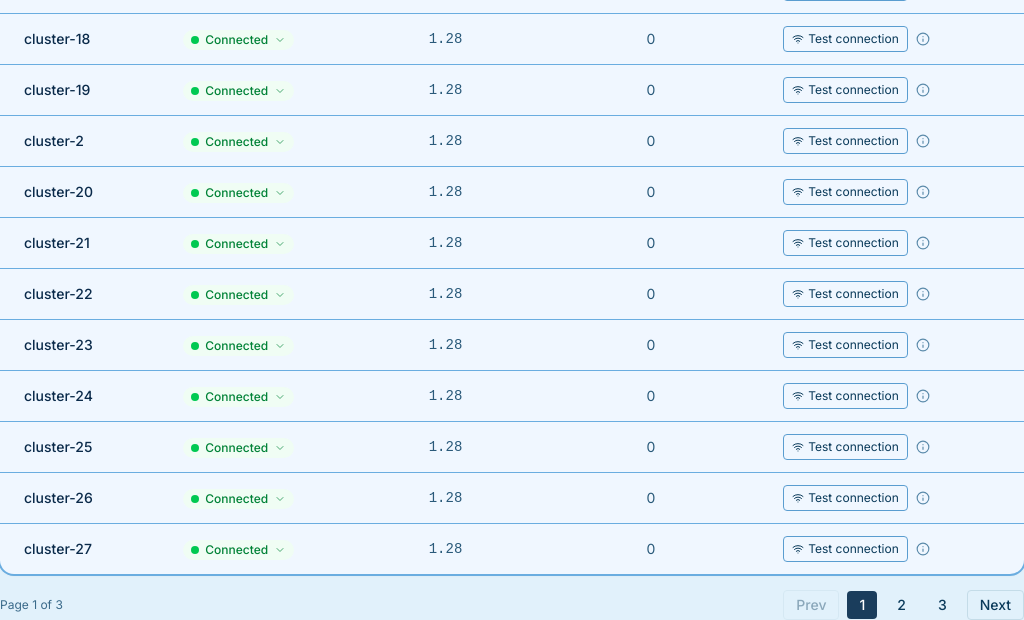
ClustersOverview client-side pagination + sort (S1) › switching page size recomputes total pages and resets to page 1
(page scrolled)
Expected: the text "Page 1 of 3" is shown, [0,597,63,613]
What coordinates should you click on to do the following:
click the button "Next"
I would click on:
 (995, 605)
Its box is [967,590,1023,619].
(page scrolled)
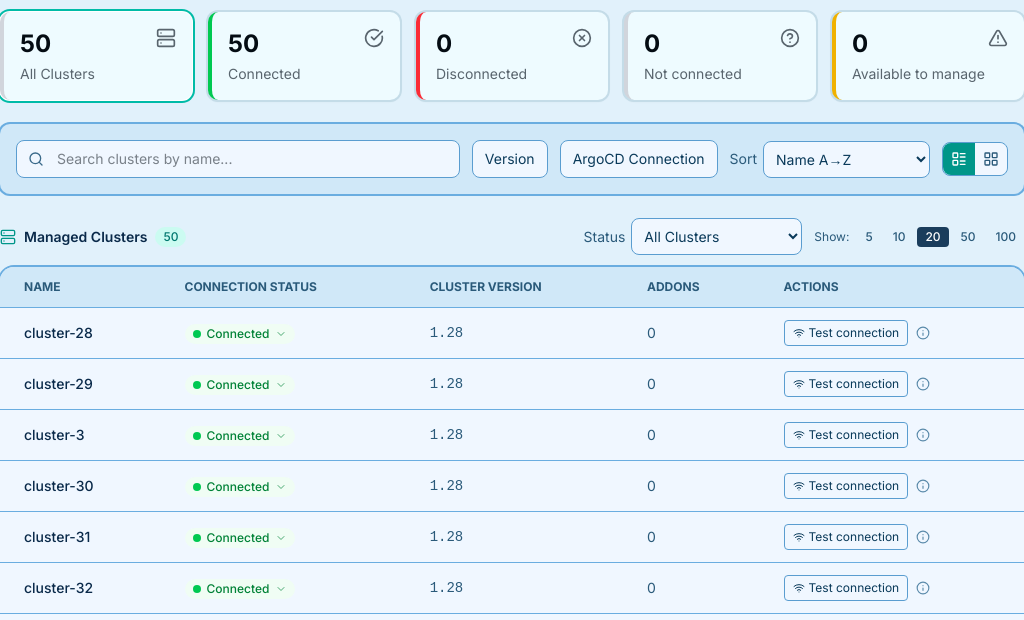
What coordinates should you click on to do the following:
click the button named "Show 5 per page"
I would click on:
 (869, 236)
Its box is [857,226,881,246].
(page scrolled)
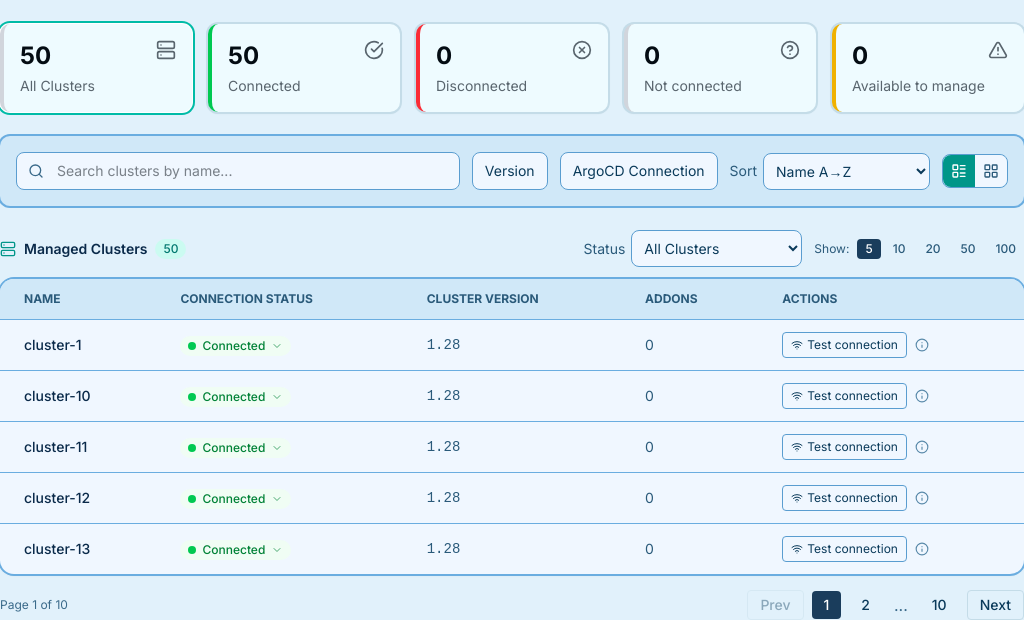
Now the text "Page 1 of 10" is shown, box [0,597,68,613]
